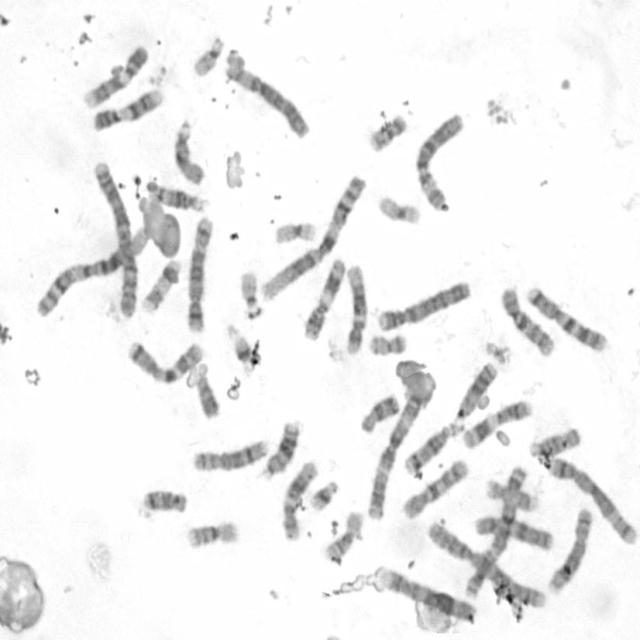A1: (258, 170, 368, 304), (34, 218, 151, 318)
A2: (426, 519, 548, 610), (92, 158, 140, 322)
A3: (462, 461, 531, 599), (364, 388, 432, 522)
B4: (374, 276, 473, 333), (379, 573, 480, 625)
B5: (547, 452, 638, 547), (183, 212, 215, 334)
C10: (398, 455, 470, 521), (497, 283, 556, 358)
C11: (460, 395, 533, 450), (301, 255, 347, 342)
C12: (278, 456, 319, 543), (343, 263, 368, 355)
C6: (222, 56, 307, 142), (412, 111, 465, 214)
C7: (523, 281, 609, 353), (124, 336, 205, 386)
C8: (544, 504, 594, 597), (189, 436, 270, 474)
C9: (80, 41, 150, 110), (90, 84, 163, 134)
D13: (451, 358, 499, 423), (258, 416, 303, 482)
D14: (401, 418, 462, 476), (144, 178, 207, 213)
D15: (171, 117, 206, 186), (528, 423, 582, 458)
E16: (321, 507, 365, 566), (183, 516, 241, 552)
E17: (138, 256, 183, 315), (482, 474, 538, 514)
E18: (358, 391, 401, 436), (137, 484, 189, 518)
F19: (375, 191, 423, 228), (271, 217, 319, 246)
F20: (365, 110, 410, 154), (365, 329, 409, 357)
G21: (225, 322, 255, 372), (308, 476, 341, 513)
G22: (190, 33, 225, 78), (237, 266, 264, 320)
X: (469, 511, 556, 552)
Y: (193, 364, 221, 421)
